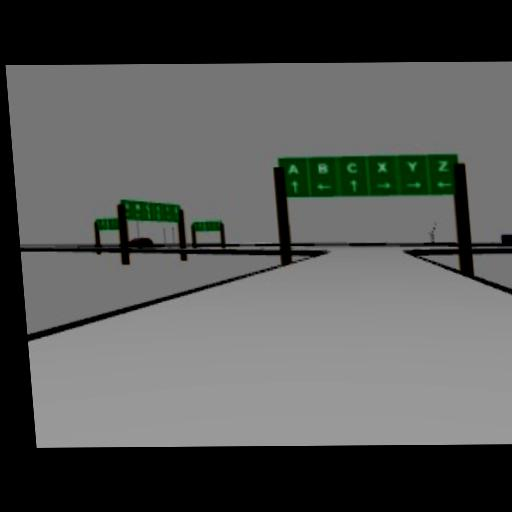A: (285, 161, 298, 173)
B: (316, 161, 327, 173)
C: (344, 160, 357, 173)
Left: (434, 179, 452, 186), (315, 182, 332, 189)
Right: (405, 179, 421, 187), (373, 180, 391, 187)
Straight: (349, 178, 357, 191), (290, 179, 298, 191)
X: (375, 159, 386, 171)
Y: (405, 159, 418, 171)
Z: (436, 159, 449, 171)
